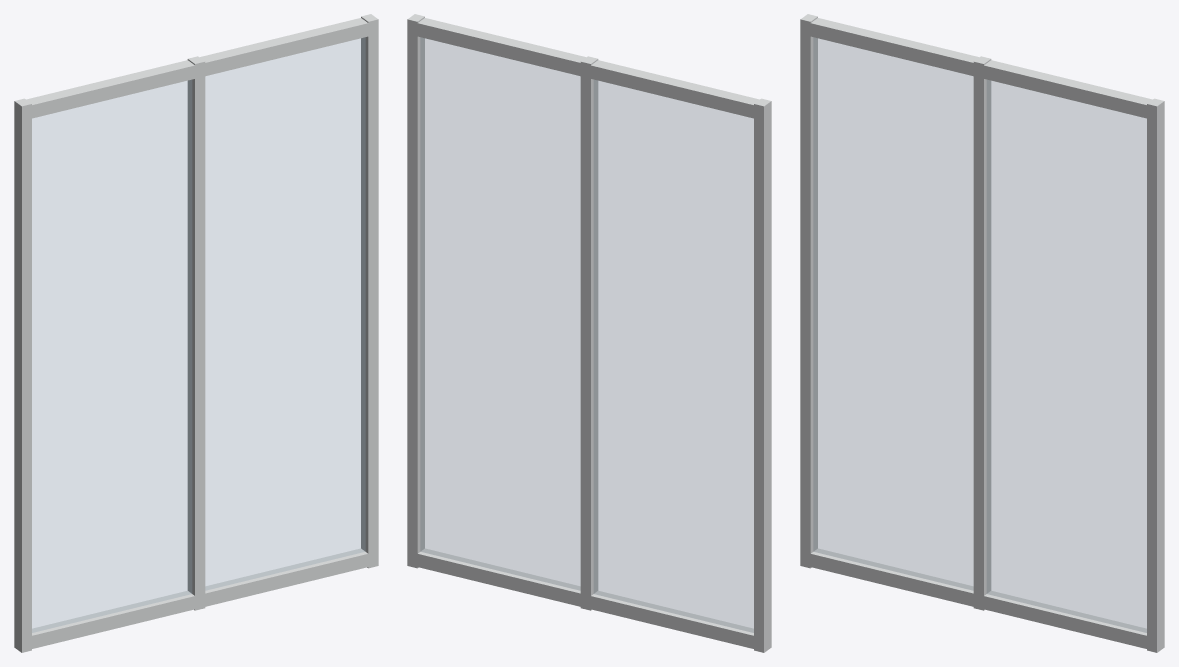
The model's file is door-double-glass.glb.
The picture shows the model from 3 angles, left to right: view 1: azimuth 30°, elevation 25°; view 2: azimuth 150°, elevation 25°; view 3: azimuth 330°, elevation 25°; orthographic projection.
Parts seen in each view (by area): view 1: door-double-glass; view 2: door-double-glass; view 3: door-double-glass.
Part boxes in pixels (x1,y1,x2,y2): door-double-glass: (14, 14, 378, 652); door-double-glass: (407, 14, 771, 652); door-double-glass: (800, 14, 1164, 652).
Size of the model in its own units: 1.4 by 2.05 by 0.05.
